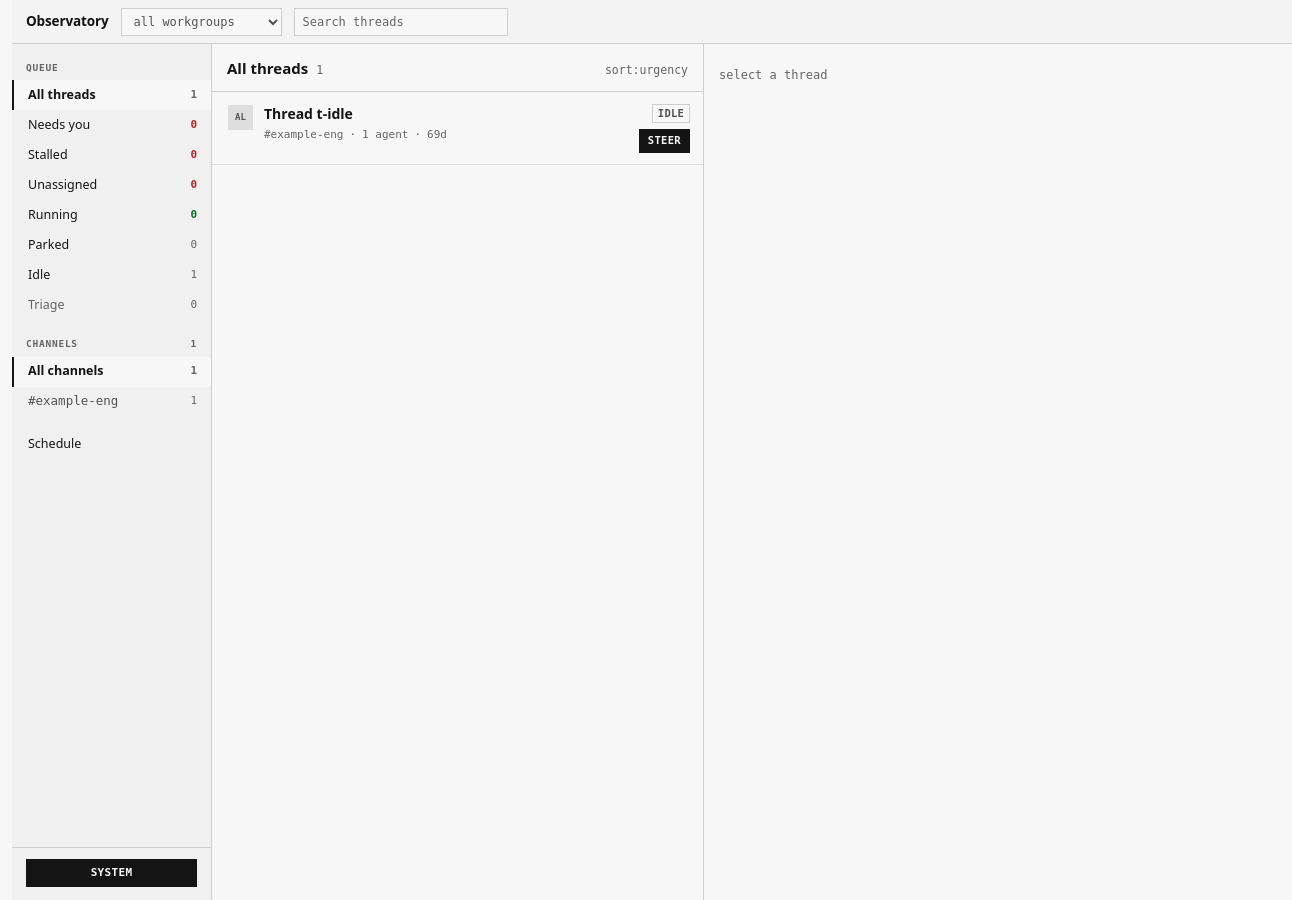
Test case: closing a thread — the real thing, not the old Dismiss › one deliberate click closes it when the agent already proposed (1 confirmation)
This screenshot has width=1292, height=900.
Click the button with class "ncc-row-main" at [428, 126], box [228,104,628,148]
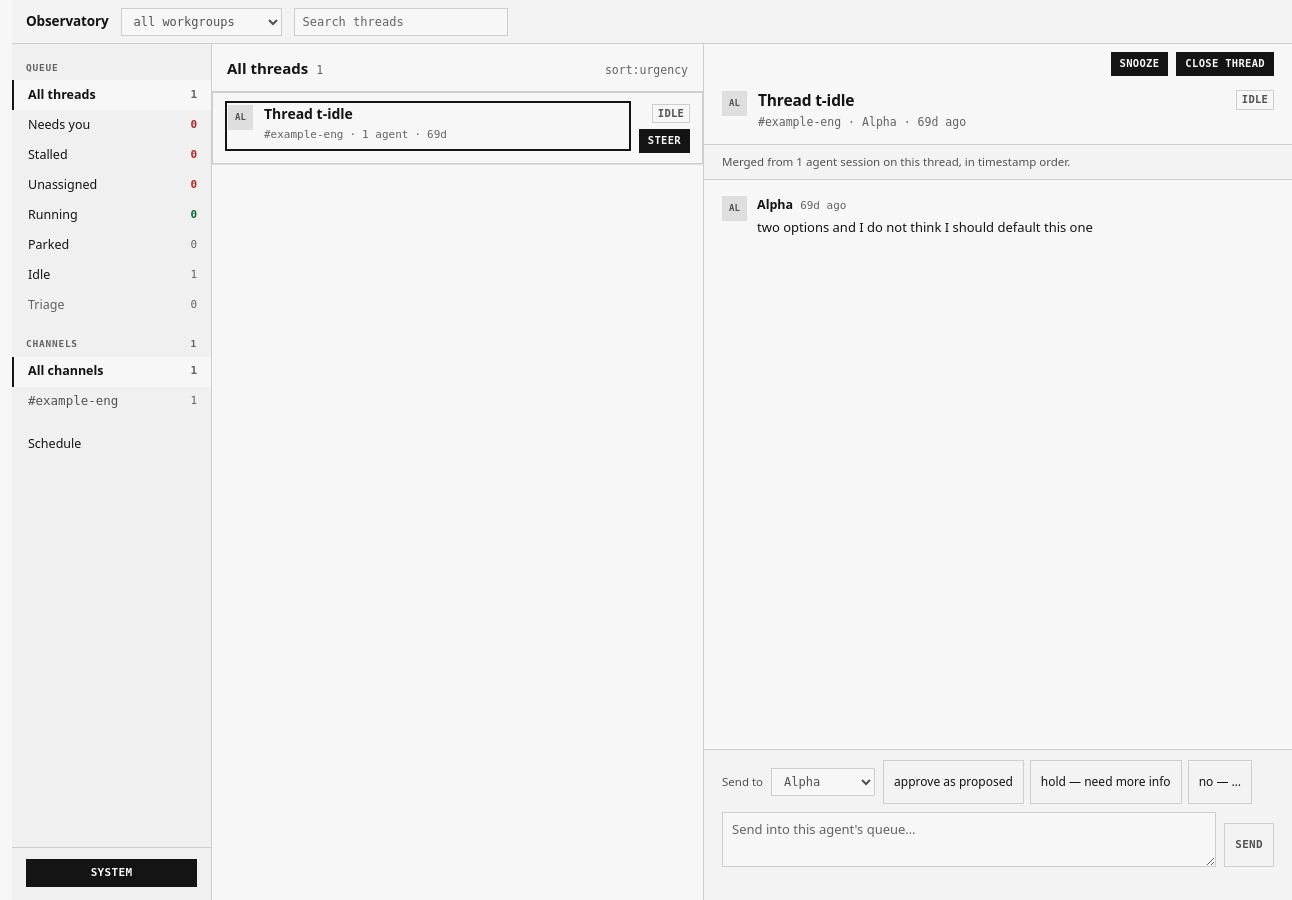
Expected: the button "snooze" is shown, [1110,52,1168,76]
Click the button "close thread" at [1225, 64], box [1176,52,1274,76]
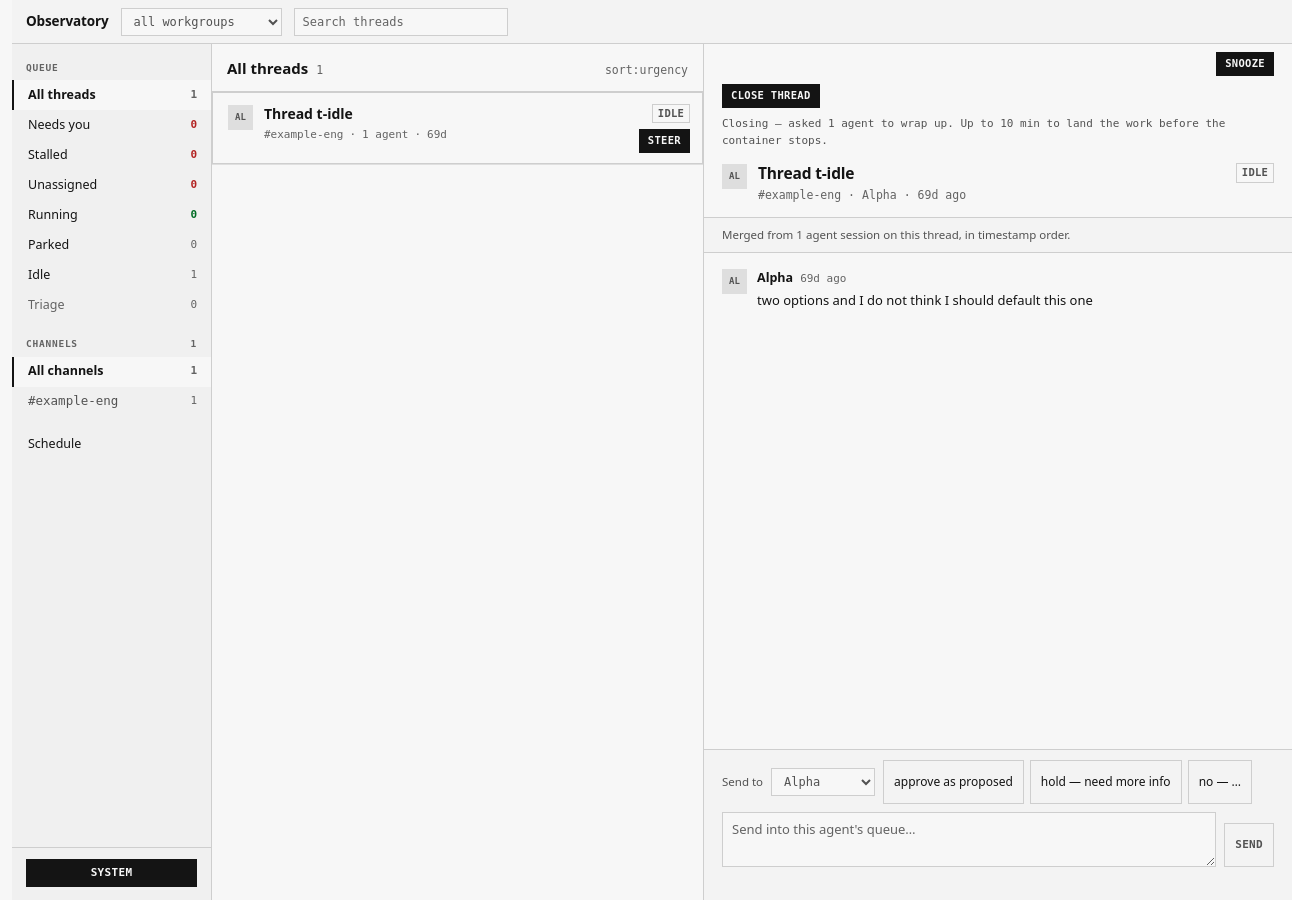
Expected: the message with class "ncc-close-status" shows "10 min", [722,117,1225,146]
Expected: the message with class "ncc-close-status" shows "asked 1 agent", [722,117,1225,146]
